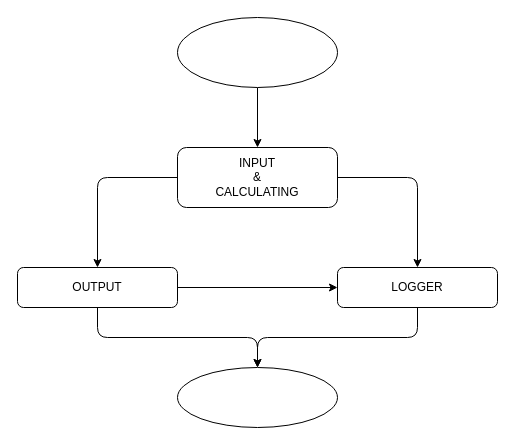
Image size: 515x445. Some labels were removed from this diagram. Here are the shapes that lost their labels. From the top down, the centre of each, then its label:
At (x=257, y=52): "START".
At (x=257, y=397): "FINISH".
